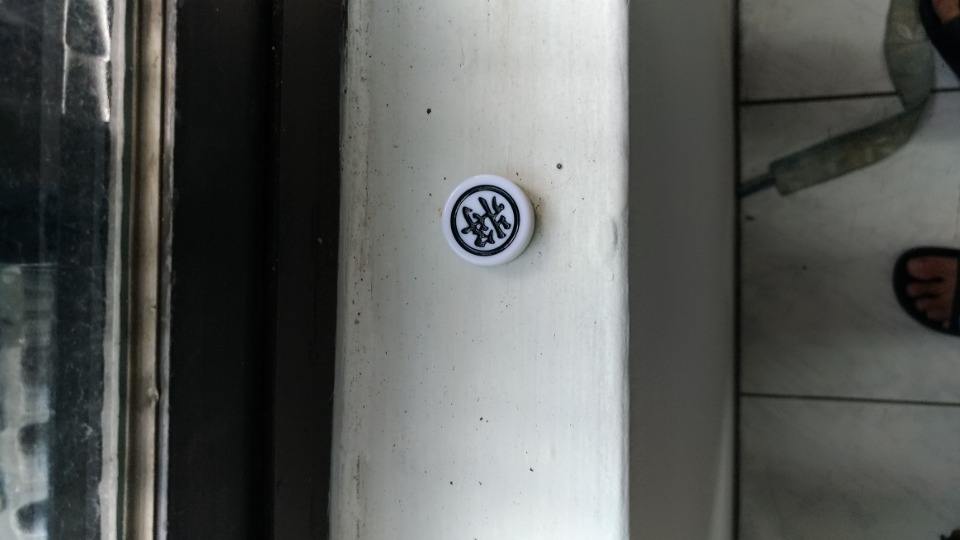b-king: (442, 171, 551, 275)
